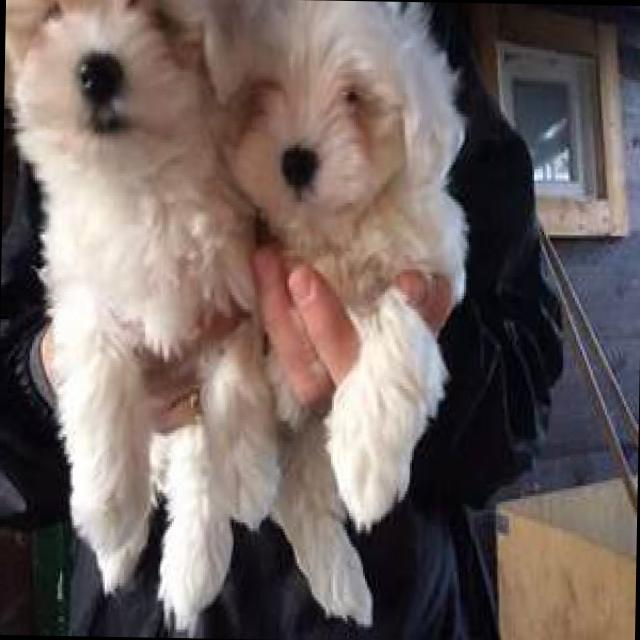dog: (147, 0, 453, 640), (0, 0, 289, 555)
